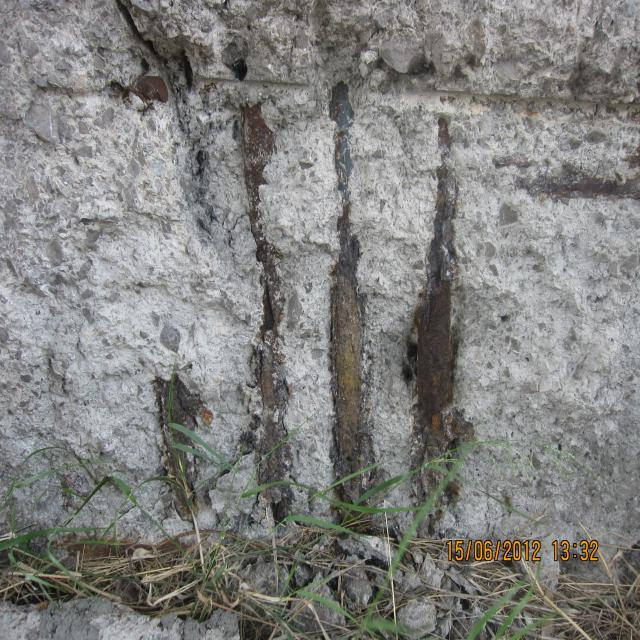corrosion: (106, 40, 508, 544)
